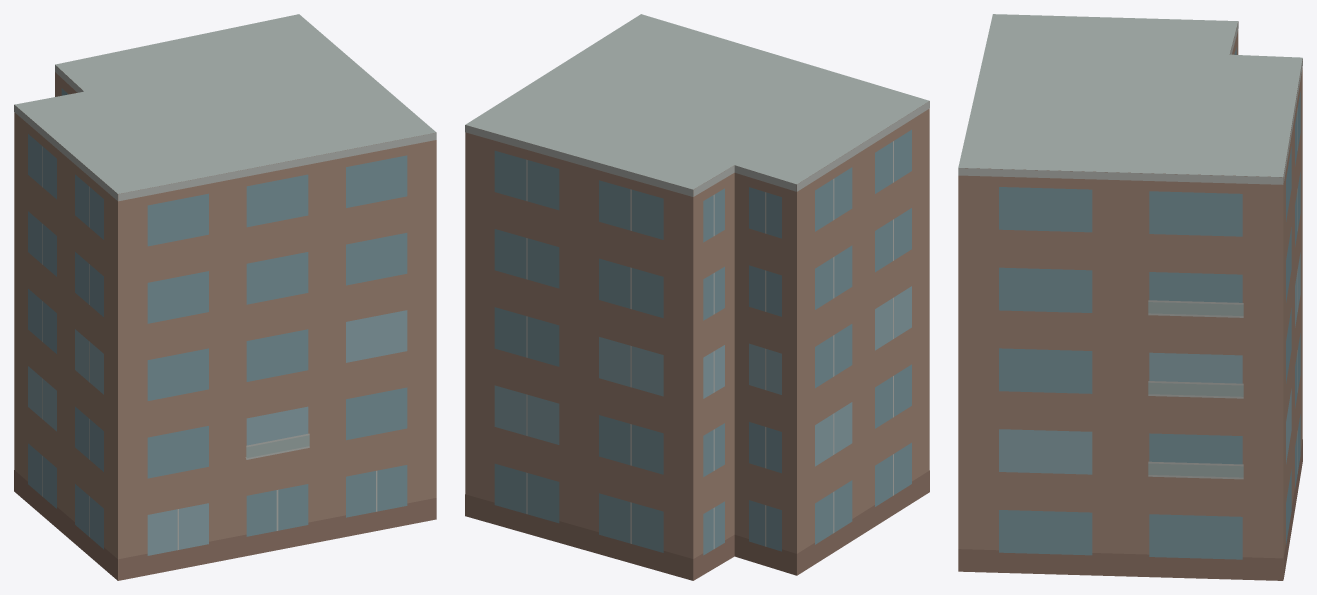
The model's file is survey-upis-32652692.glb.
3 views of the same model, side by side, from view 1: azimuth 30°, elevation 25°; view 2: azimuth 150°, elevation 25°; view 3: azimuth 270°, elevation 25° (orthographic). The views are drawn at different scales.
Parts seen in each view (by area): view 1: survey-upis-32652692.tmp; view 2: survey-upis-32652692.tmp; view 3: survey-upis-32652692.tmp.
Boxes of the visible parts, x1,y1,x2,y2 form: survey-upis-32652692.tmp: (14,14,436,580); survey-upis-32652692.tmp: (465,14,929,580); survey-upis-32652692.tmp: (958,14,1302,580).
Size of the model in its own units: 11.1 by 12.8 by 9.91.
